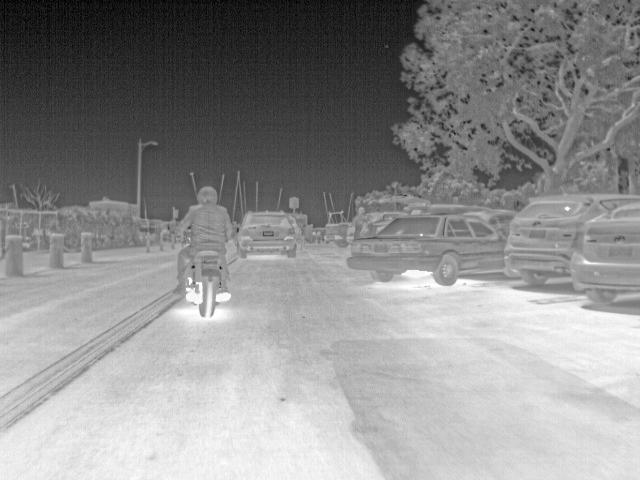car: (504, 192, 639, 288), (347, 215, 507, 287), (570, 202, 639, 306), (238, 210, 300, 259), (389, 202, 494, 214), (322, 222, 348, 248)
person: (172, 184, 237, 302), (351, 205, 368, 242)
